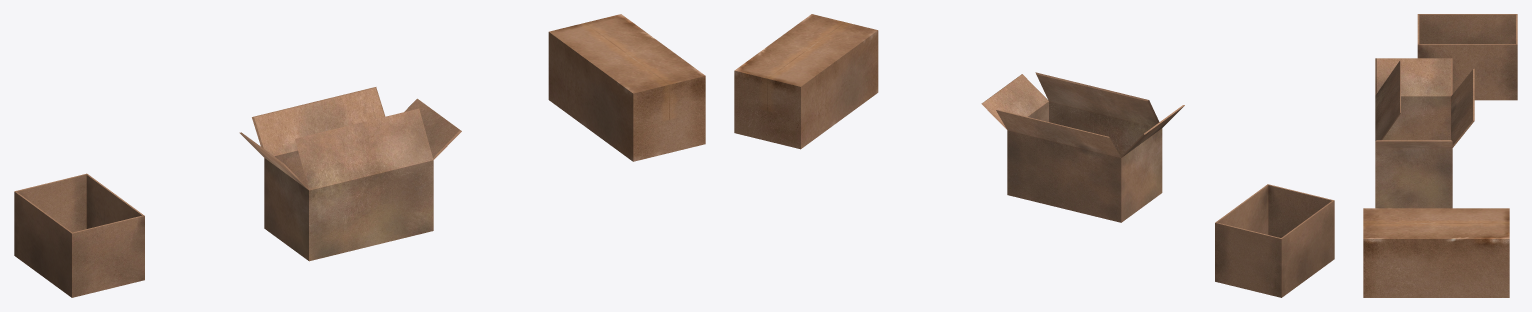
File: boxes.FBX
3 views of the same model, side by side, from view 1: azimuth 30°, elevation 25°; view 2: azimuth 150°, elevation 25°; view 3: azimuth 270°, elevation 25° (orthographic). The views are drawn at different scales.
Visible parts, largest first — view 1: Object002, Box004, Object001; view 2: Object002, Box004, Object001; view 3: Box004, Object002, Object001.
Part boxes in pixels (x1,y1,x2,y2): Object002: (239,87,461,261); Box004: (548,14,705,161); Object001: (14,173,144,297); Object002: (981,72,1184,222); Box004: (734,14,878,149); Object001: (1215,184,1334,297); Box004: (1363,208,1509,297); Object002: (1375,58,1474,208); Object001: (1417,14,1517,100).
Bounding box in the file's own units: 280 × 50.9 × 71.7.
